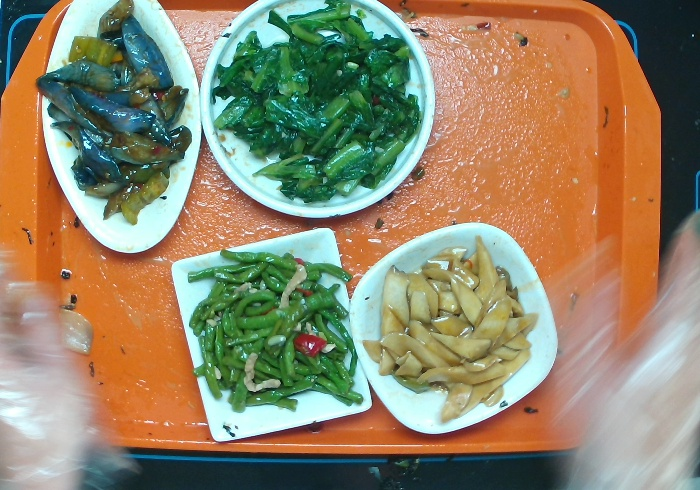HZYJPL-Si_Fang_Die: (168, 225, 373, 445)
HZYJPL-Si_Fang_Yuan_Die: (348, 219, 560, 436)
HZYJPL-Xiao_Yu_Die: (38, 1, 203, 257)
HZYJPL-Xiao_Yuan_Die: (196, 1, 438, 221)
